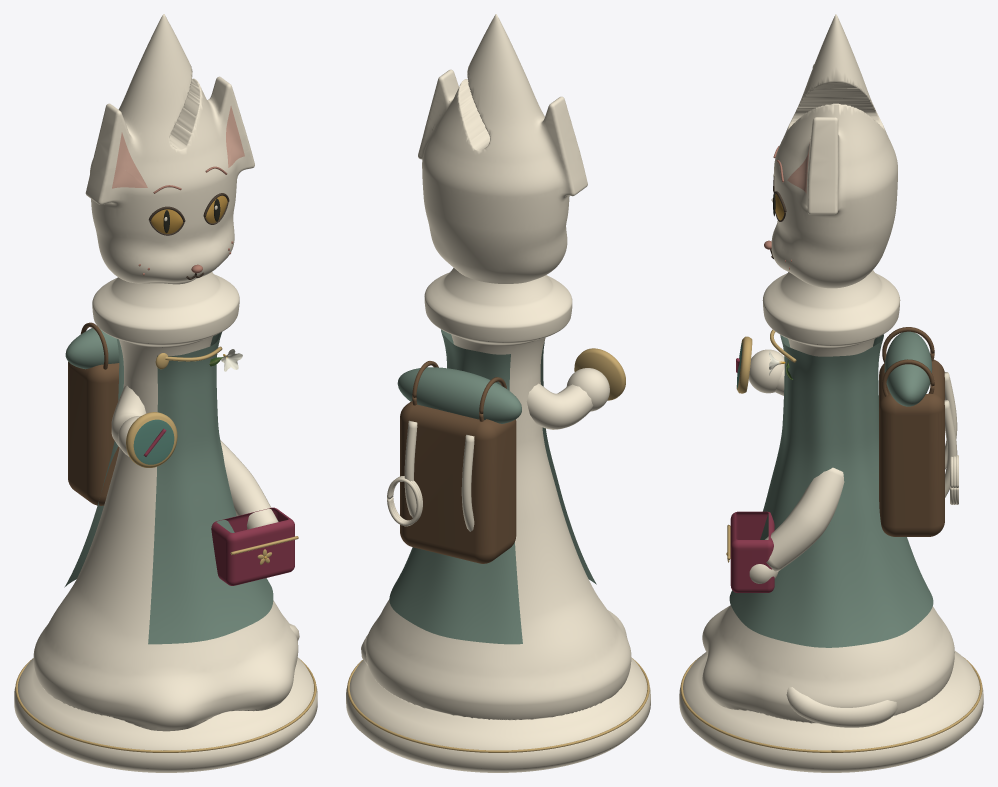
The model's file is bishop.v1.glb.
3 views of the same model, side by side, from view 1: azimuth 30°, elevation 25°; view 2: azimuth 150°, elevation 25°; view 3: azimuth 270°, elevation 25° (orthographic).
Parts seen in each view (by area): view 1: Core | bishop shaped feline torso and seated paws, Core | prepare sculpted chess skull, Wardrobe | fitted survival cape on bishop stem, Core | flared feline chess foot, Wardrobe | small survival pack, Wardrobe | sealed provision tin, Wardrobe | provision-bearing foreleg, Face | warm rose ear interiors, Wardrobe | rolled blanket, Wardrobe | compass dial, Wardrobe | quiet gilt foot bead, Wardrobe | bent compass foreleg (+2 smaller); view 2: Core | bishop shaped feline torso and seated paws, Core | prepare sculpted chess skull, Core | flared feline chess foot, Wardrobe | small survival pack, Wardrobe | fitted survival cape on bishop stem, Wardrobe | rolled blanket, Wardrobe | bent compass foreleg, Wardrobe | canvas pack straps, Wardrobe | brass compass case, Wardrobe | quiet gilt foot bead, Wardrobe | rounded ceramic paw, Wardrobe | spare rope coils (+1 smaller); view 3: Wardrobe | fitted survival cape on bishop stem, Core | bishop shaped feline torso and seated paws, Core | prepare sculpted chess skull, Core | flared feline chess foot, Wardrobe | small survival pack, Wardrobe | provision-bearing foreleg, Wardrobe | sealed provision tin, Wardrobe | rolled blanket, Core | low curled ceramic tail, Wardrobe | rounded ceramic paw, Wardrobe | quiet gilt foot bead, Wardrobe | canvas pack straps (+2 smaller).
Boxes of the visible parts, x1,y1,x2,y2 form: Core | bishop shaped feline torso and seated paws: [33, 272, 298, 731]; Core | prepare sculpted chess skull: [85, 14, 254, 284]; Wardrobe | fitted survival cape on bishop stem: [64, 332, 273, 644]; Core | flared feline chess foot: [14, 658, 317, 772]; Wardrobe | small survival pack: [68, 361, 119, 505]; Wardrobe | sealed provision tin: [211, 507, 294, 585]; Wardrobe | provision-bearing foreleg: [220, 440, 278, 529]; Face | warm rose ear interiors: [112, 106, 244, 188]; Wardrobe | rolled blanket: [65, 328, 119, 369]; Wardrobe | compass dial: [133, 419, 174, 464]; Wardrobe | quiet gilt foot bead: [15, 658, 316, 752]; Wardrobe | bent compass foreleg: [111, 385, 146, 447]; Core | bishop shaped feline torso and seated paws: [365, 268, 631, 720]; Core | prepare sculpted chess skull: [418, 14, 587, 283]; Core | flared feline chess foot: [346, 658, 650, 772]; Wardrobe | small survival pack: [400, 401, 516, 563]; Wardrobe | fitted survival cape on bishop stem: [389, 329, 596, 644]; Wardrobe | rolled blanket: [397, 367, 521, 423]; Wardrobe | bent compass foreleg: [526, 383, 593, 429]; Wardrobe | canvas pack straps: [404, 420, 474, 531]; Wardrobe | brass compass case: [574, 348, 625, 400]; Wardrobe | quiet gilt foot bead: [347, 657, 649, 752]; Wardrobe | rounded ceramic paw: [566, 368, 609, 411]; Wardrobe | spare rope coils: [387, 476, 422, 526]; Wardrobe | fitted survival cape on bishop stem: [729, 334, 933, 647]; Core | bishop shaped feline torso and seated paws: [702, 270, 954, 723]; Core | prepare sculpted chess skull: [771, 14, 897, 288]; Core | flared feline chess foot: [679, 651, 983, 772]; Wardrobe | small survival pack: [879, 359, 944, 536]; Wardrobe | provision-bearing foreleg: [765, 467, 844, 571]; Wardrobe | sealed provision tin: [730, 511, 774, 592]; Wardrobe | rolled blanket: [884, 331, 932, 406]; Core | low curled ceramic tail: [786, 687, 897, 727]; Wardrobe | rounded ceramic paw: [748, 349, 784, 583]; Wardrobe | quiet gilt foot bead: [680, 657, 982, 752]; Wardrobe | canvas pack straps: [944, 372, 957, 497].
Size of the model in its own units: 0.3946 by 1 by 0.3946.
